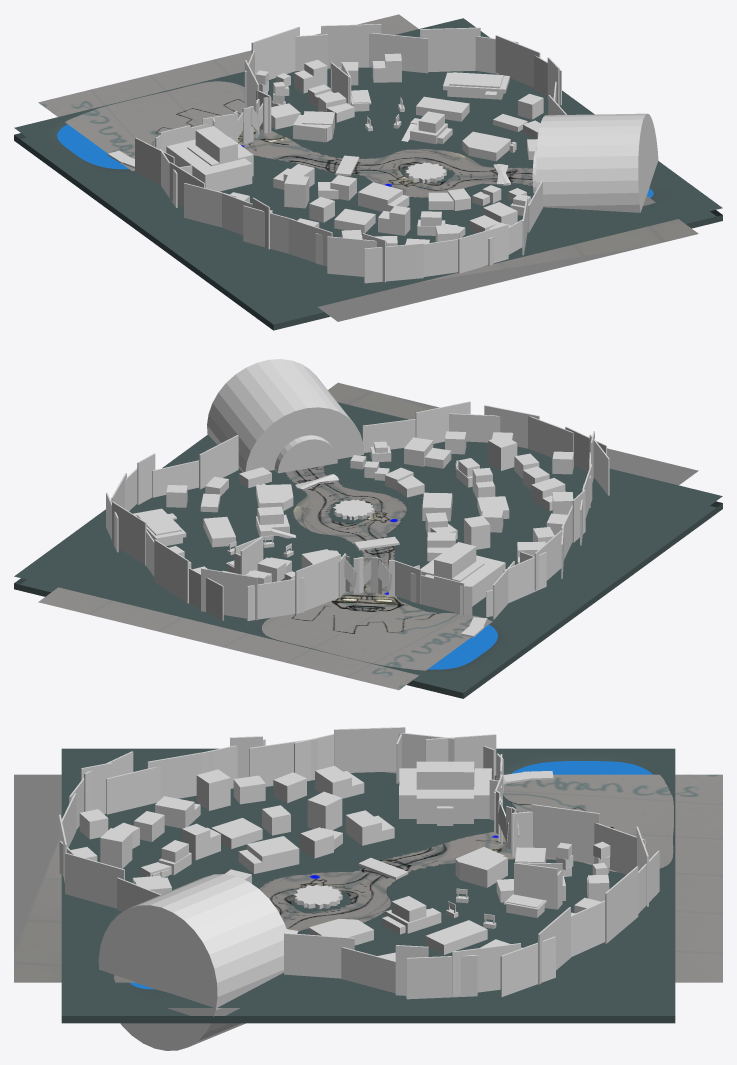
The model's file is Whitebox_NewRatCity.glb.
3 renders of one model, top to bottom at view 1: azimuth 30°, elevation 25°; view 2: azimuth 150°, elevation 25°; view 3: azimuth 270°, elevation 25°, orthographic. The views are drawn at different scales.
Visible parts, largest first — view 1: Plane, Cube.016, Cylinder, Cube.029, Cube.027, Cube.078, Cube.059, Cube.069, Cube.051, Cube.061, Cube.053, Cube.068 (+34 smaller); view 2: Plane, Cube.016, Cylinder, Cube.029, Cube.004, Cube.078, Cube.027, Cube.082, Cube.083, Cylinder.001, Cube.053, Cube.051 (+29 smaller); view 3: Plane, Cube.016, Cylinder, Cube.029, Cube.004, Cube.078, Cube.027, Cube.083, Cube.049, Cube.047, Cube.055, Cube.050 (+36 smaller).
Boxes of the visible parts, <box> form: Plane: <box>14,18,722,317</box>; Cube.016: <box>38,14,698,321</box>; Cylinder: <box>536,113,658,212</box>; Cube.029: <box>14,133,722,330</box>; Cube.027: <box>166,126,253,191</box>; Cube.078: <box>135,137,236,227</box>; Cube.059: <box>420,27,480,71</box>; Cube.069: <box>364,243,423,283</box>; Cube.051: <box>321,24,381,68</box>; Cube.061: <box>369,33,428,73</box>; Cube.053: <box>251,26,299,79</box>; Cube.068: <box>458,224,508,273</box>; Plane: <box>14,402,722,685</box>; Cube.016: <box>38,382,698,690</box>; Cylinder: <box>207,359,363,472</box>; Cube.029: <box>14,499,722,698</box>; Cube.004: <box>488,435,573,563</box>; Cube.078: <box>493,519,564,619</box>; Cube.027: <box>420,542,505,606</box>; Cube.082: <box>247,577,304,620</box>; Cube.083: <box>295,554,340,614</box>; Cylinder.001: <box>274,435,337,473</box>; Cube.053: <box>201,568,257,620</box>; Cube.051: <box>154,539,188,603</box>; Plane: <box>61,748,675,1007</box>; Cube.016: <box>14,774,722,982</box>; Cylinder: <box>98,874,287,1050</box>; Cube.029: <box>61,884,675,1023</box>; Cube.004: <box>100,765,364,868</box>; Cube.078: <box>294,727,496,781</box>; Cube.027: <box>399,761,491,825</box>; Cube.083: <box>531,804,599,863</box>; Cube.049: <box>406,955,477,999</box>; Cube.047: <box>284,933,354,978</box>; Cube.055: <box>65,853,124,908</box>; Cube.050: <box>500,936,555,997</box>.
Size of the model in its own units: 158 by 41.32 by 182.
166 materials, 1 textured.
